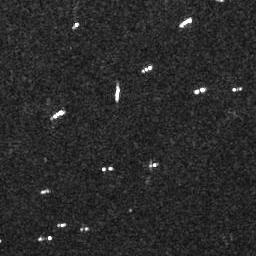ship: (49, 107, 66, 121), (113, 84, 122, 101), (180, 16, 192, 27), (141, 64, 153, 73), (38, 235, 53, 242), (193, 86, 205, 94), (56, 222, 68, 229), (147, 161, 159, 168), (231, 85, 243, 92), (39, 188, 50, 195), (71, 21, 80, 29)
